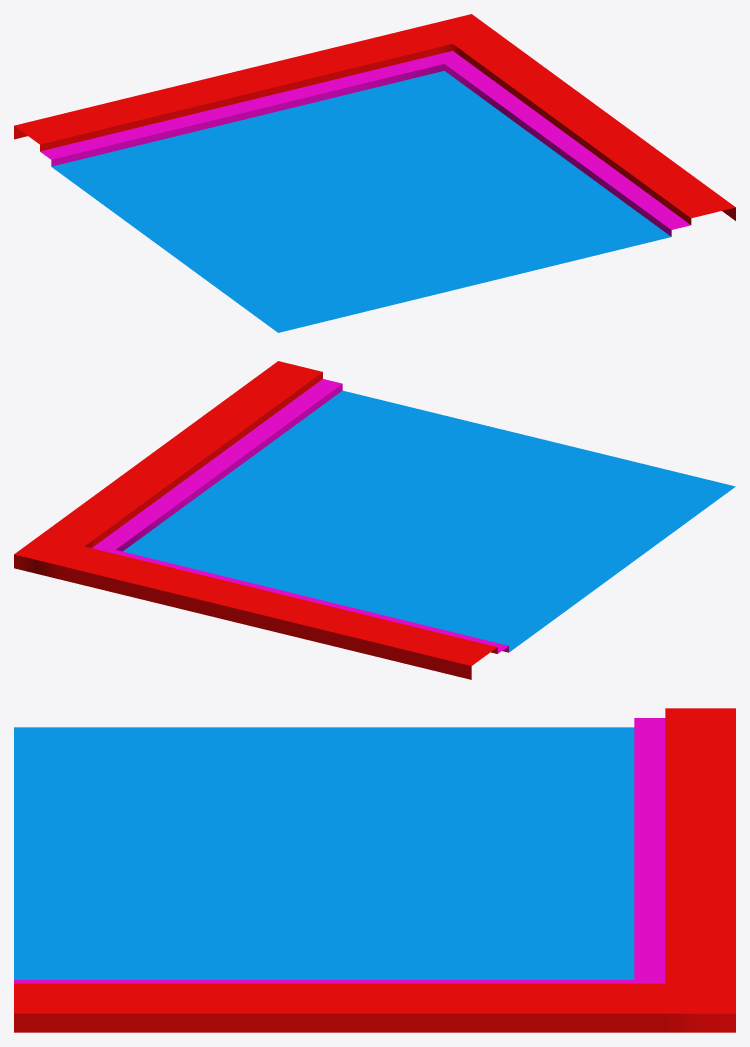
Rendered from FloorCorner.fbx.
The picture shows the model from 3 angles, top to bottom: view 1: azimuth 30°, elevation 25°; view 2: azimuth 150°, elevation 25°; view 3: azimuth 270°, elevation 25°; orthographic projection. The views are drawn at different scales.
Parts seen in each view (by area): view 1: Corner; view 2: Corner; view 3: Corner.
Boxes of the visible parts, x1,y1,x2,y2 form: Corner: (14,14,735,332); Corner: (14,361,735,679); Corner: (14,708,735,1032).
Bounding box in the file's own units: 78.74 × 2.28 × 78.74.
